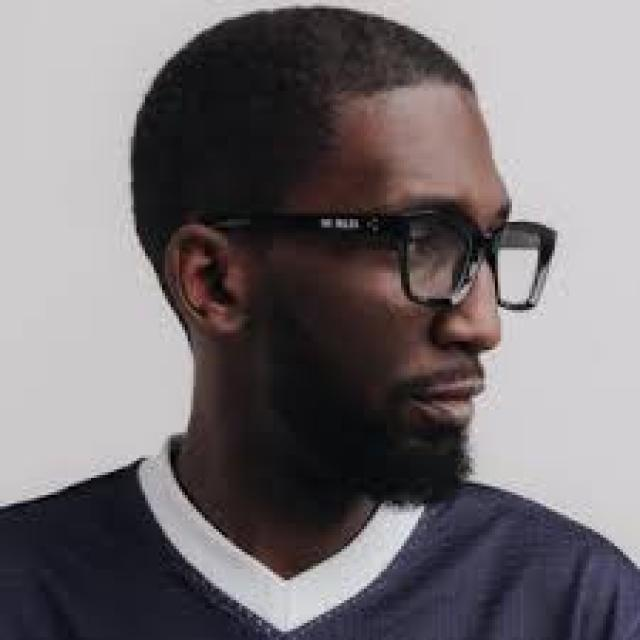specticles: (164, 191, 584, 311)
